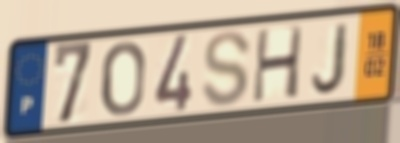4: (152, 30, 196, 117)
7: (52, 39, 94, 127)
H: (250, 23, 306, 106)
J: (309, 20, 352, 97)
O: (100, 38, 148, 119)
S: (200, 28, 254, 110)
